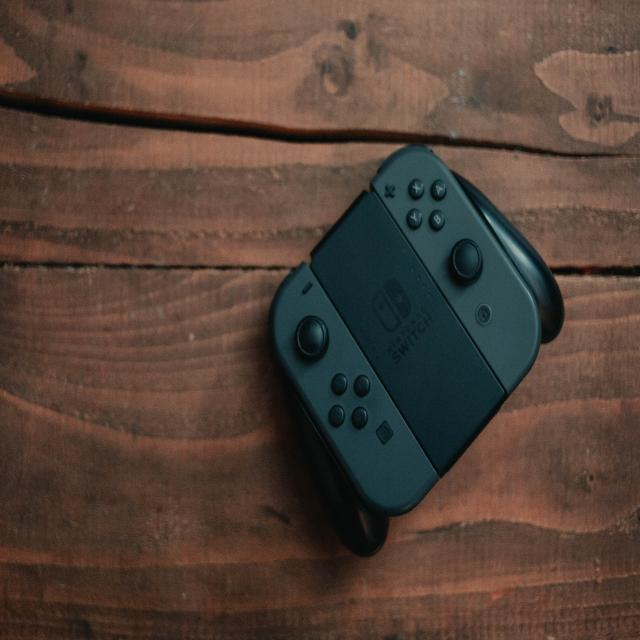Plastic: (267, 145, 565, 559)
